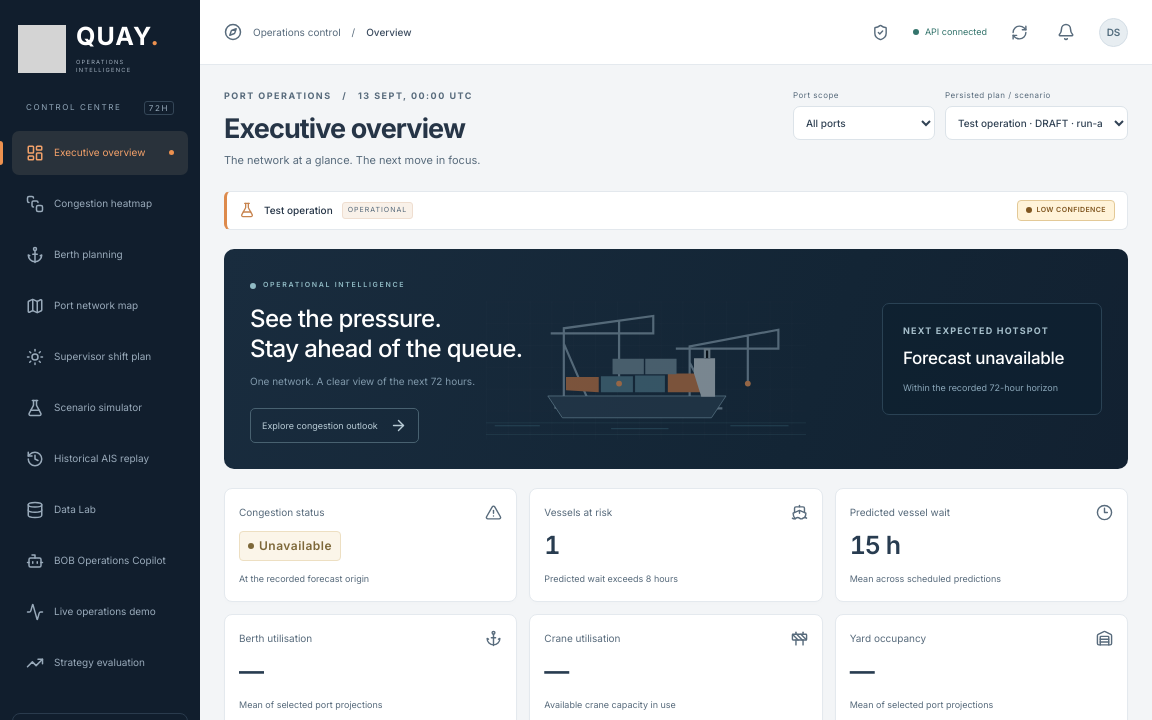
operations command centre › filters risks using selected API port data
Select "Other Harbour" in the dropdown labelled "Port scope". click: (864, 123)
box: [793,106,935,140]
(page scrolled)
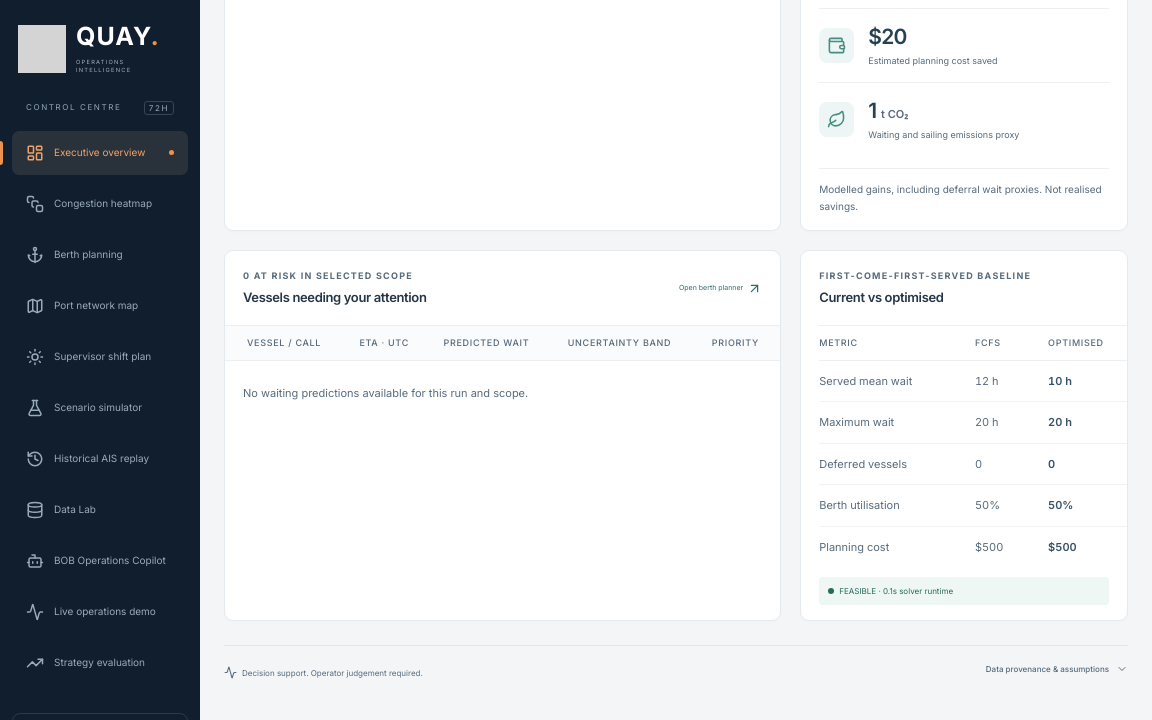
Expected: the text "No waiting predictions available for this run and scope." is shown, [243,386,528,400]
